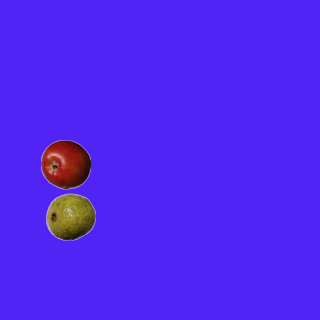Apple Braeburn: (40, 139, 90, 189)
Guava: (45, 191, 95, 241)
